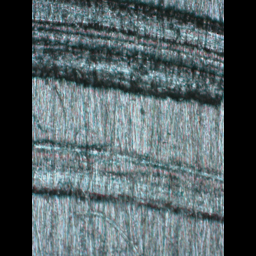d: (32, 0, 224, 107), (32, 139, 220, 225)
